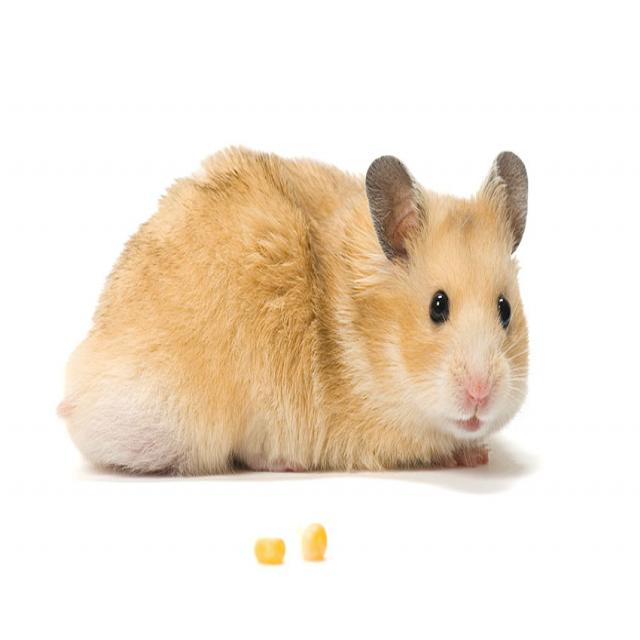hamster: (58, 142, 535, 468)
